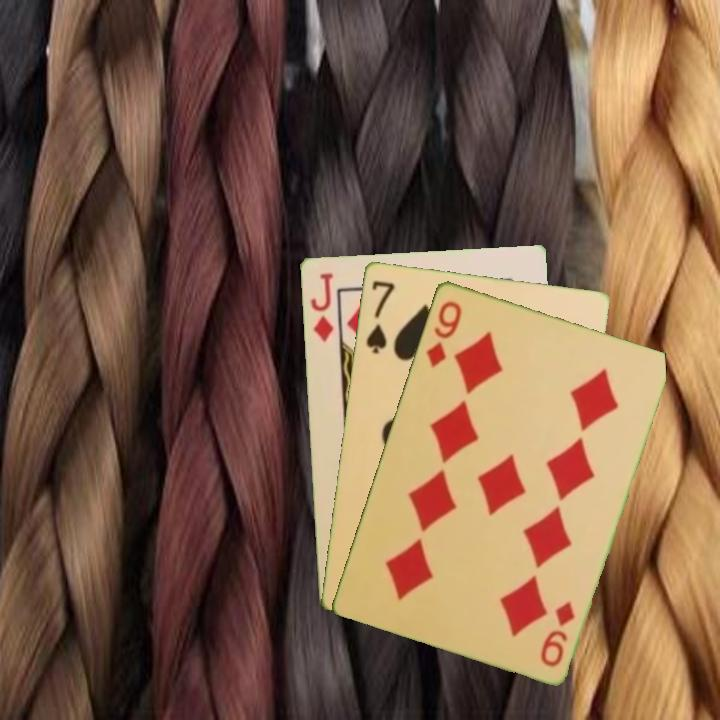7s: (362, 276, 397, 356)
9d: (422, 296, 465, 370), (536, 597, 578, 669)
Jd: (306, 269, 336, 344)
